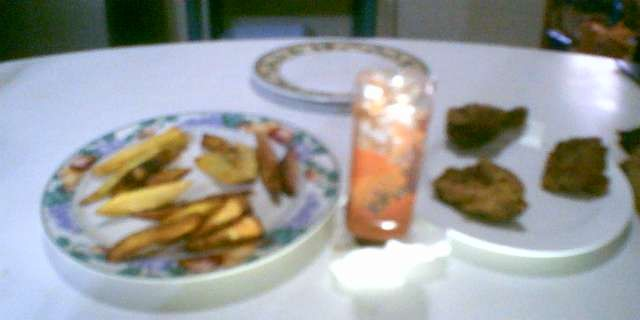chicken: (430, 152, 532, 228), (435, 97, 541, 156), (535, 134, 616, 200)
empty_plate: (251, 32, 432, 105)
ketchup_bottle: (338, 73, 438, 251)
potatoe_fries: (79, 123, 297, 274)
